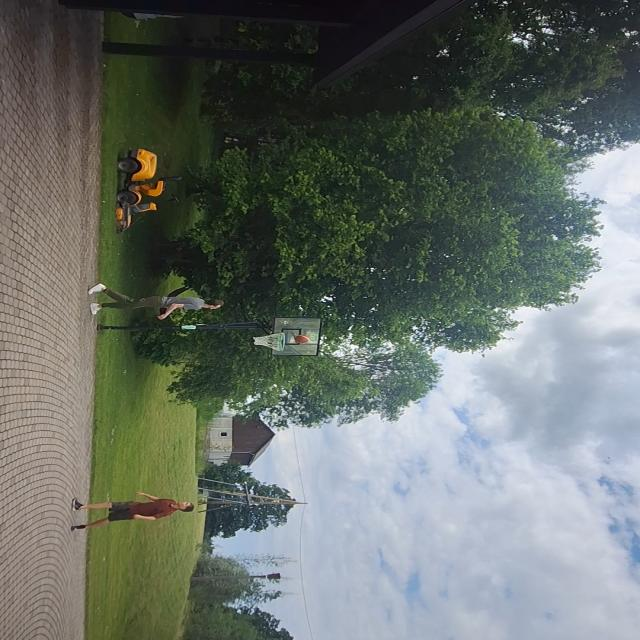ball: (294, 332, 309, 346)
hoop: (252, 332, 288, 353)
player: (86, 280, 228, 322), (69, 491, 202, 531)
